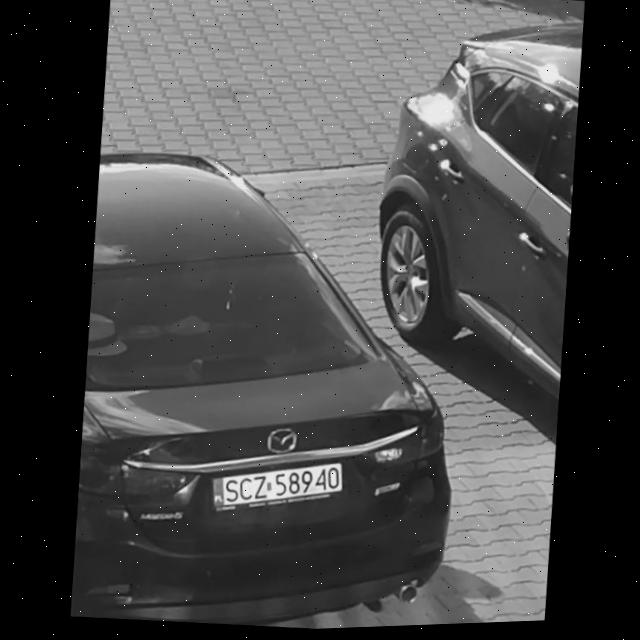license-plates: (214, 464, 342, 509)
